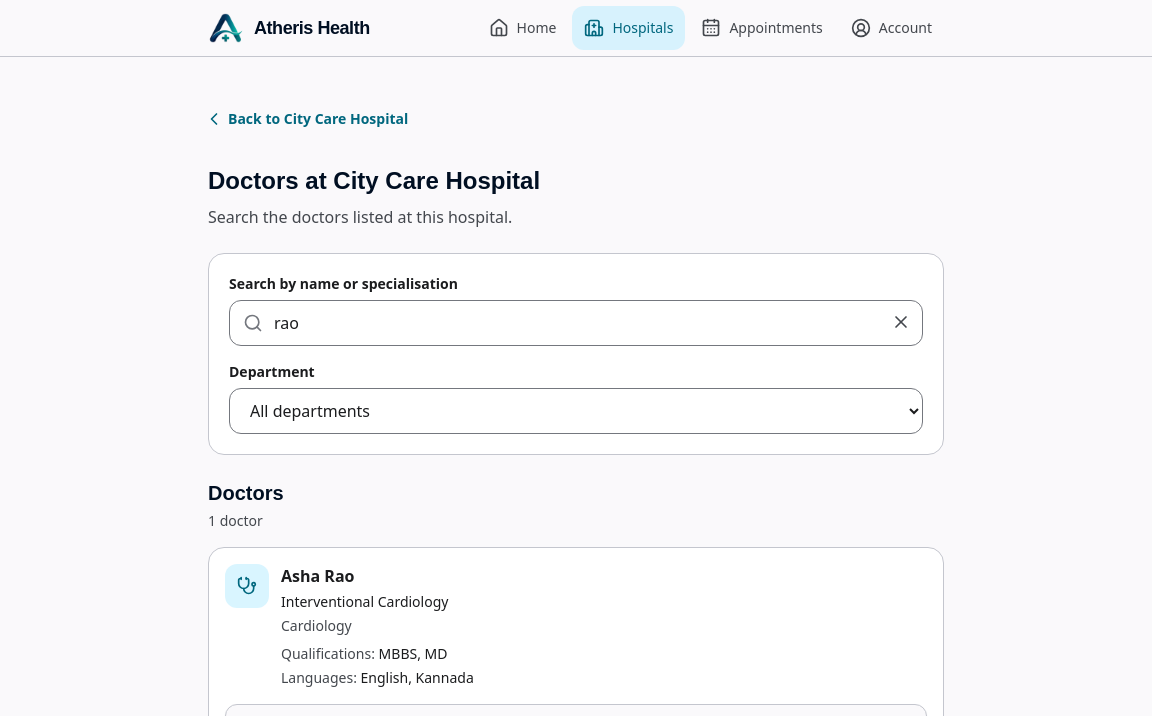
Test: doctor discovery — a hospital’s doctors › search › clears with one press, keeping the field in hand
This screenshot has width=1152, height=716.
Expected: the search field labelled "Search by name or specialisation" holds "rao", [229,300,923,346]
Click the button named "Clear search" at (901, 322), box [879,300,923,344]
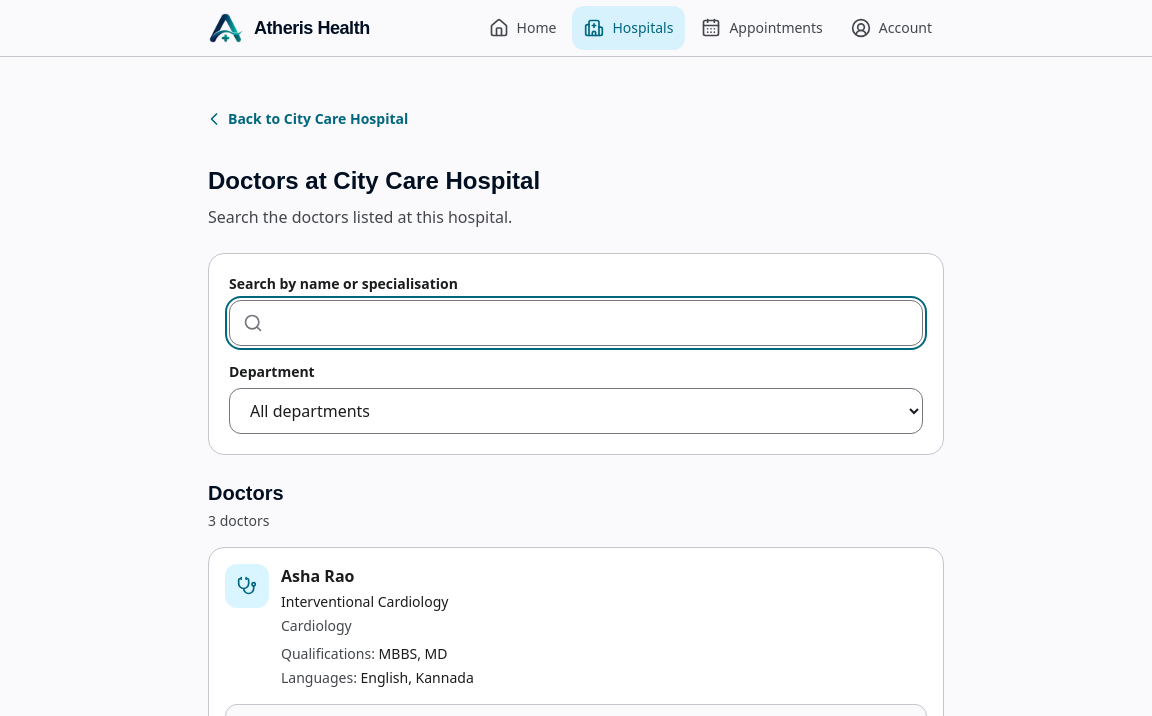
Result: the search field labelled "Search by name or specialisation" is empty at [229,300,923,346]
